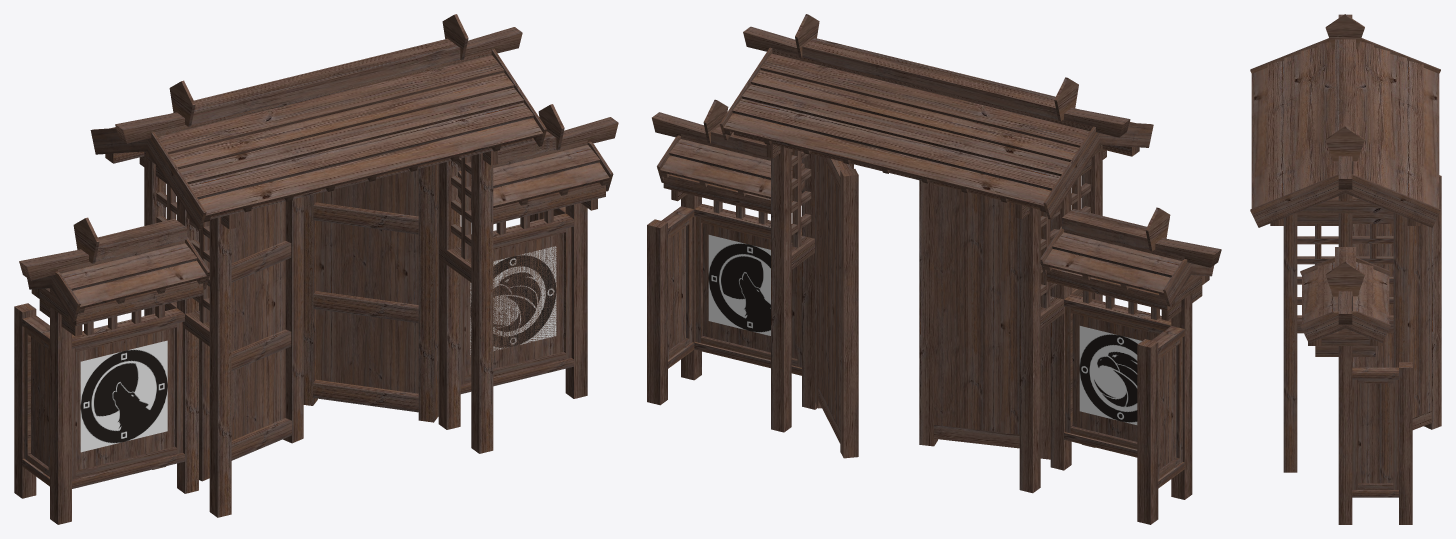
Rendered from silent_hill_front_gate.glb.
3 renders of one model, left to right at view 1: azimuth 30°, elevation 25°; view 2: azimuth 150°, elevation 25°; view 3: azimuth 270°, elevation 25°, orthographic. The views are drawn at different scales.
Parts seen in each view (by area): view 1: Material2 (×3), Material3; view 2: Material2 (×3), Material3; view 3: Material2, Material3.
Boxes of the visible parts, x1,y1,x2,y2 form: Material2 (×3): [14, 14, 618, 524]; Material3: [19, 33, 618, 280]; Material2 (×3): [647, 14, 1221, 524]; Material3: [652, 32, 1221, 267]; Material2: [1250, 14, 1441, 524]; Material3: [1338, 179, 1352, 324].
Bounding box in the file's own units: 150 × 99.57 × 50.07.
Materials: 6 (6 with a texture image).
